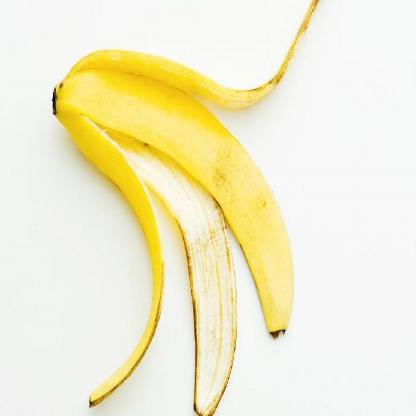banana: (41, 51, 296, 411)
